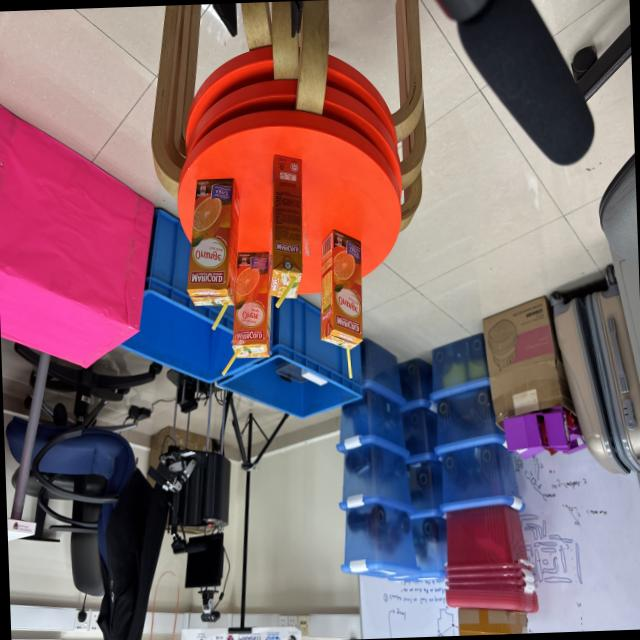drink_carton: (176, 166, 252, 334), (311, 222, 375, 385), (256, 149, 316, 317), (214, 242, 282, 386)
